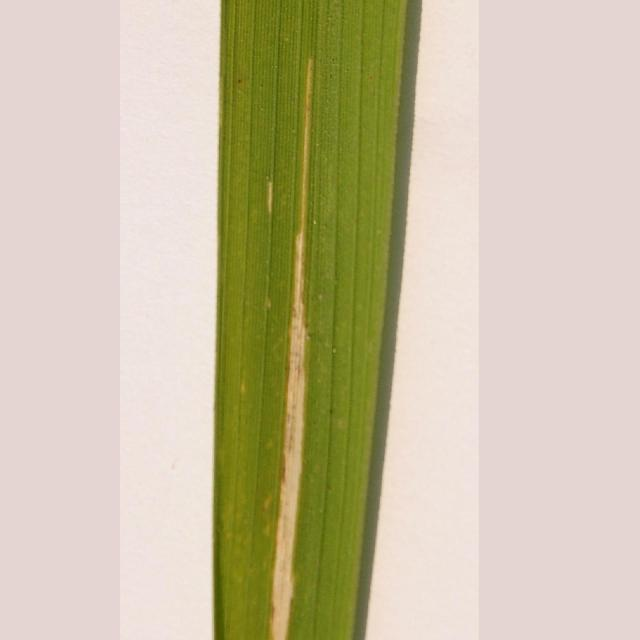Bacterial leaf blight: (252, 42, 322, 640)
